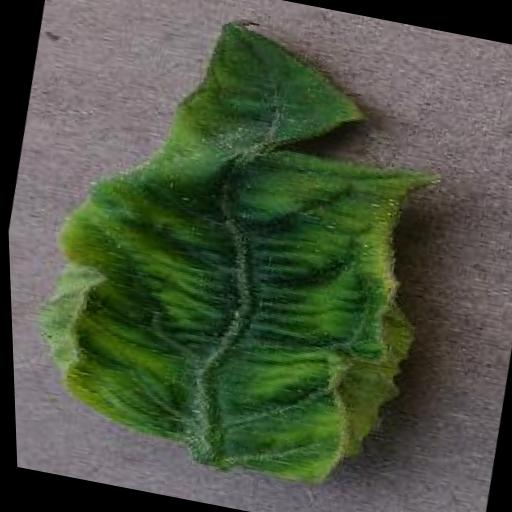Yellow Leaf Curl Virus: (4, 0, 468, 502)
